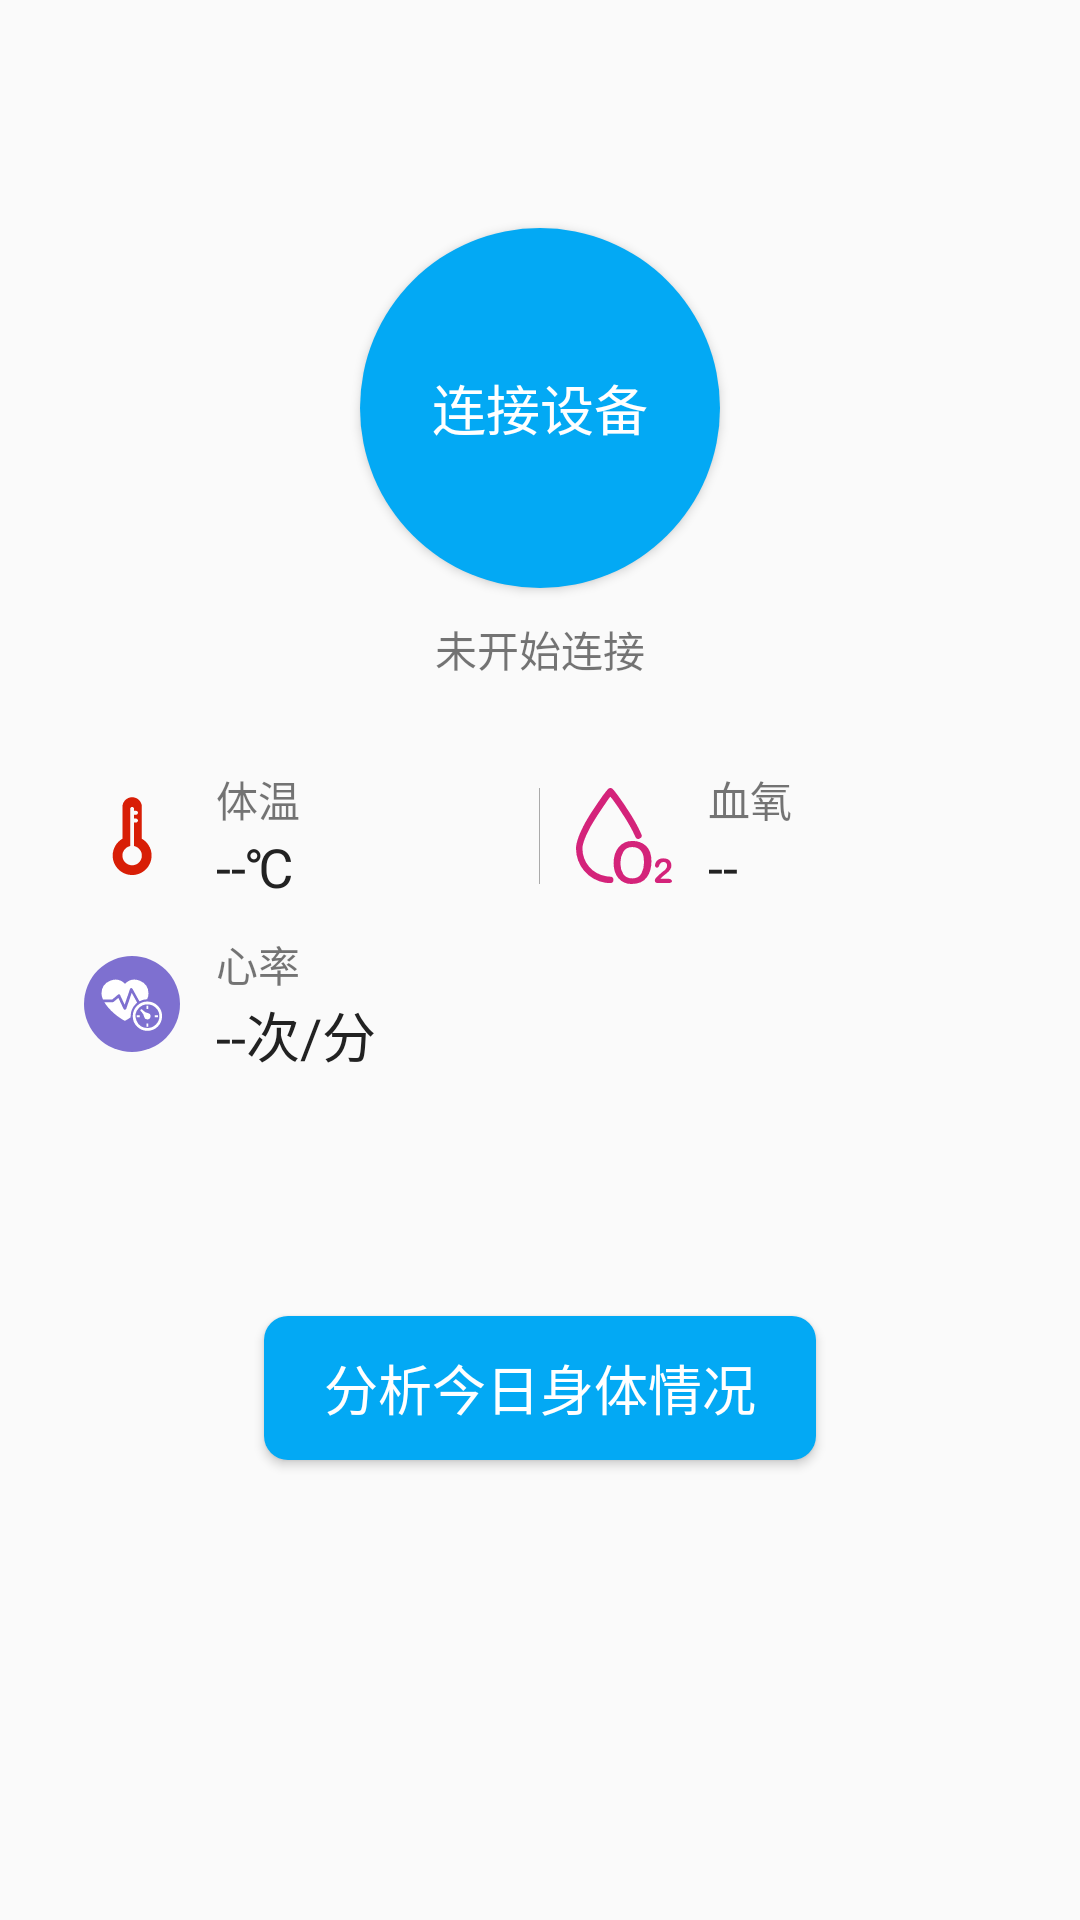

Locate icon controls on the screen. Image size 1080x1920, boxes as (x1, y1, x2, y2).
blood oxygen: (576, 788, 672, 884)
heart rate: (84, 956, 180, 1052)
temperature: (112, 797, 152, 875)
